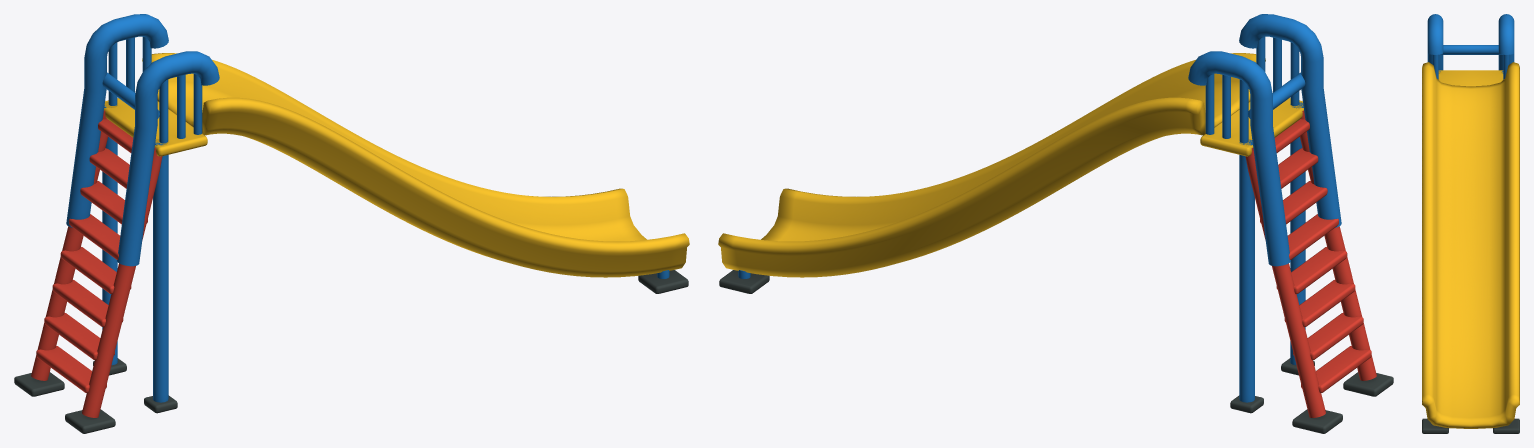
The model's file is slide.fbx.
3 renders of one model, left to right at view 1: azimuth 30°, elevation 25°; view 2: azimuth 150°, elevation 25°; view 3: azimuth 270°, elevation 25°, orthographic. The views are drawn at different scales.
Parts seen in each view (by area): view 1: slide; view 2: slide; view 3: slide.
Boxes of the visible parts, x1,y1,x2,y2 form: slide: [14, 14, 689, 433]; slide: [718, 14, 1393, 433]; slide: [1422, 14, 1519, 433].
Bounding box in the file's own units: 80000 × 43898 × 16000.
1 material, 1 textured.
